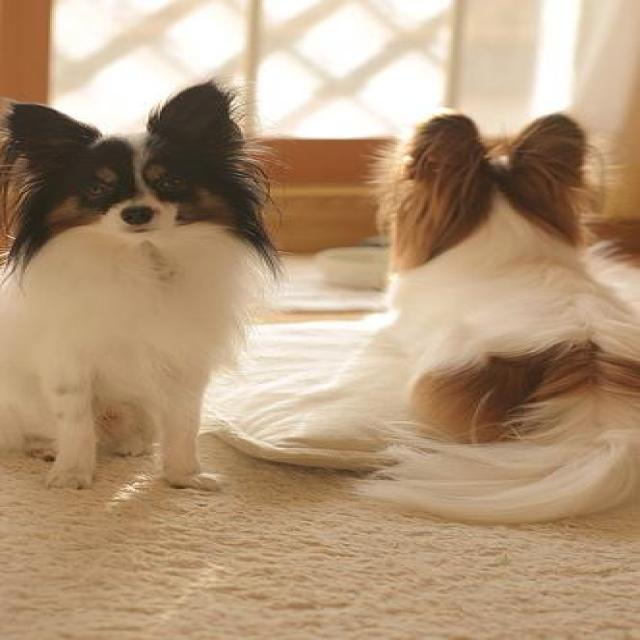papillon: (332, 99, 636, 531), (0, 78, 289, 490)
